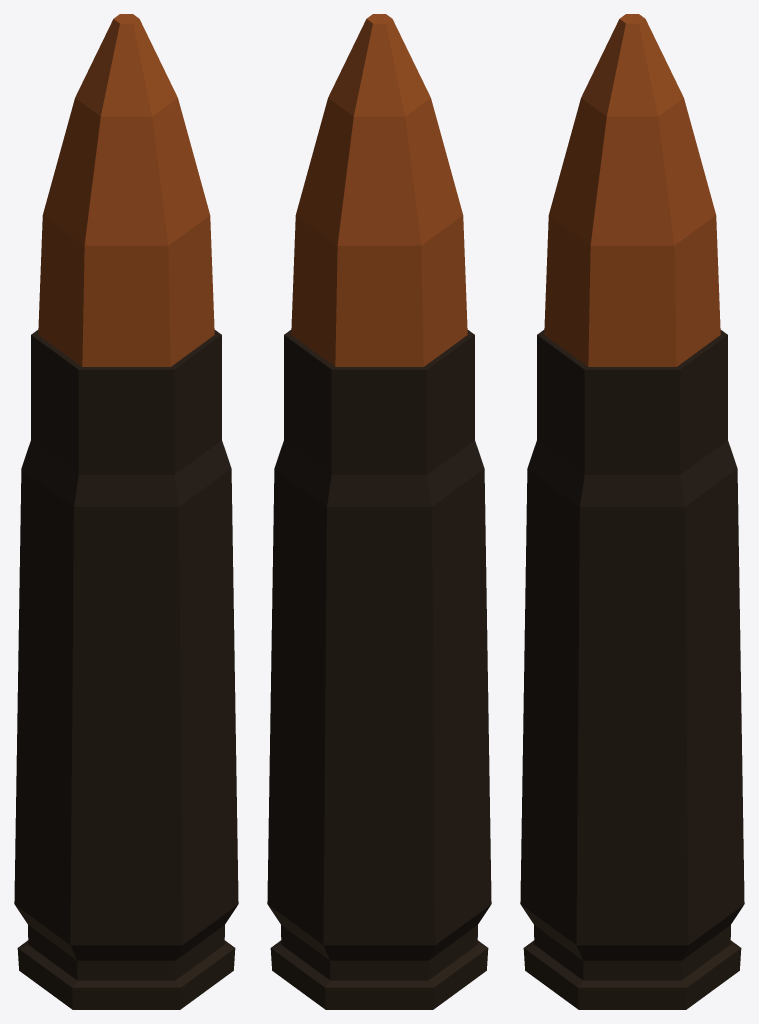
The picture shows the model from 3 angles, left to right: view 1: azimuth 30°, elevation 25°; view 2: azimuth 150°, elevation 25°; view 3: azimuth 270°, elevation 25°; orthographic projection.
Visible parts, largest first — view 1: 7.62x39mm_Bullet_Cylinder.009; view 2: 7.62x39mm_Bullet_Cylinder.009; view 3: 7.62x39mm_Bullet_Cylinder.009.
Part boxes in pixels (x1,y1,x2,y2): 7.62x39mm_Bullet_Cylinder.009: [14, 14, 238, 1009]; 7.62x39mm_Bullet_Cylinder.009: [267, 14, 491, 1009]; 7.62x39mm_Bullet_Cylinder.009: [520, 14, 744, 1009].
Size of the model in its own units: 0.0721 by 0.39 by 0.0832.
